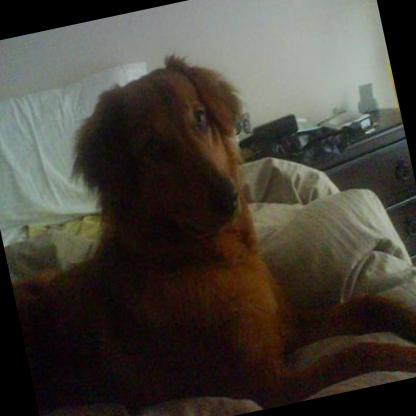Irish_setter: (0, 10, 416, 416)
